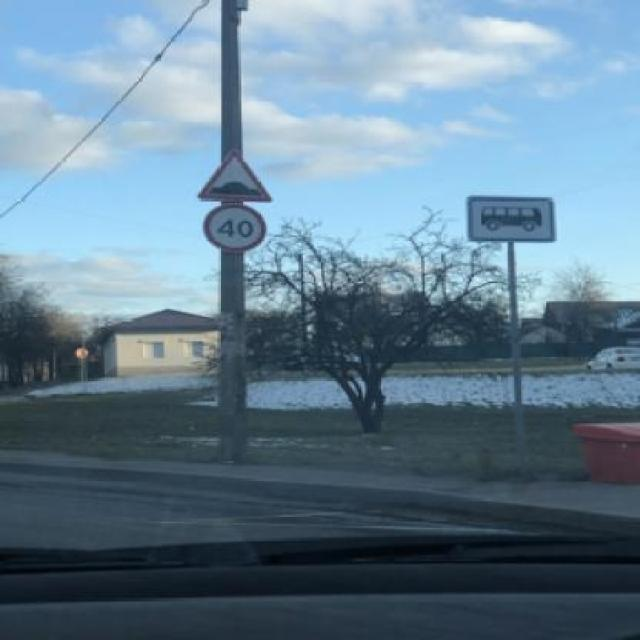forb_speed_over_40: (203, 202, 269, 253)
